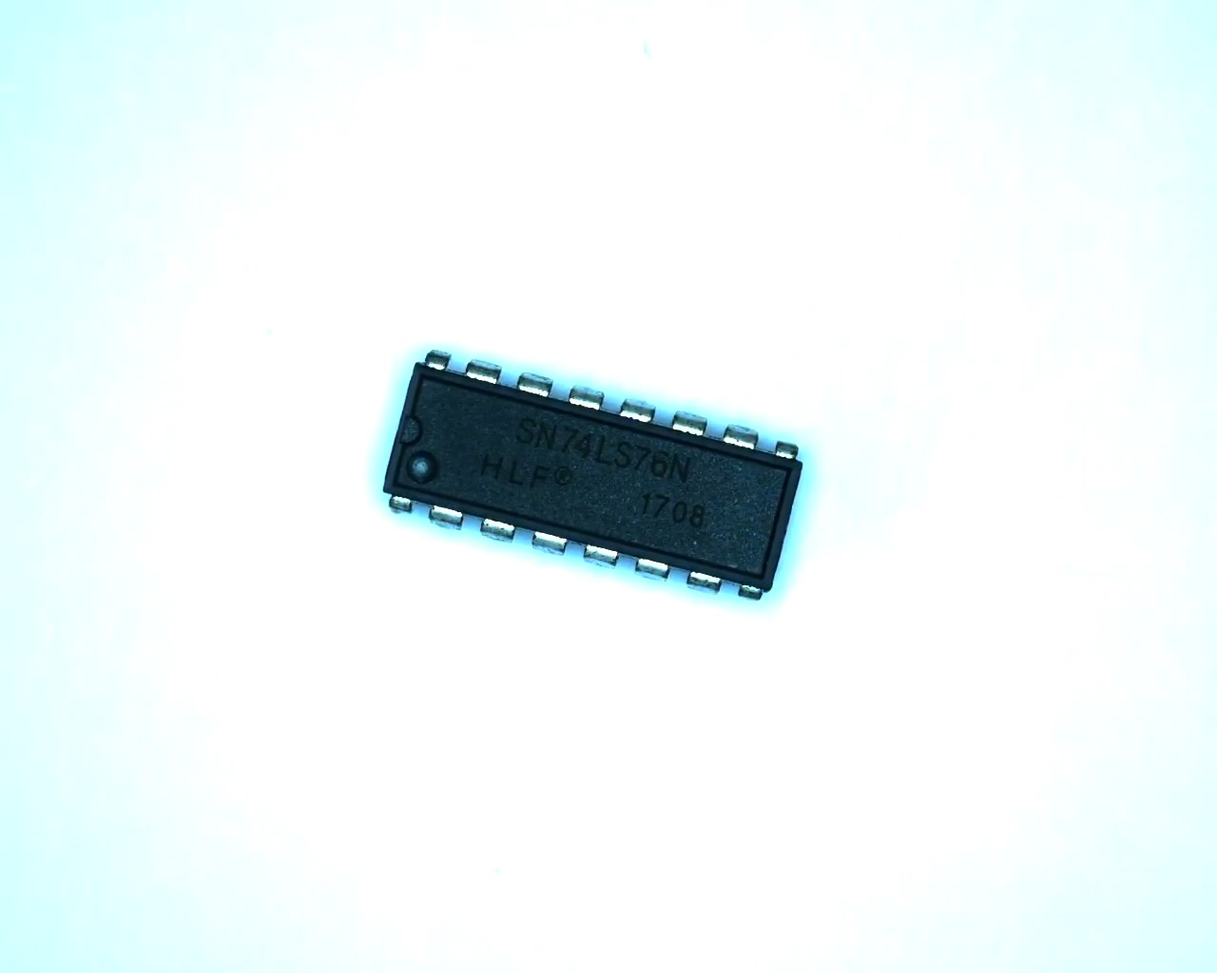IC: (378, 344, 808, 611)
notch: (394, 411, 429, 452)
